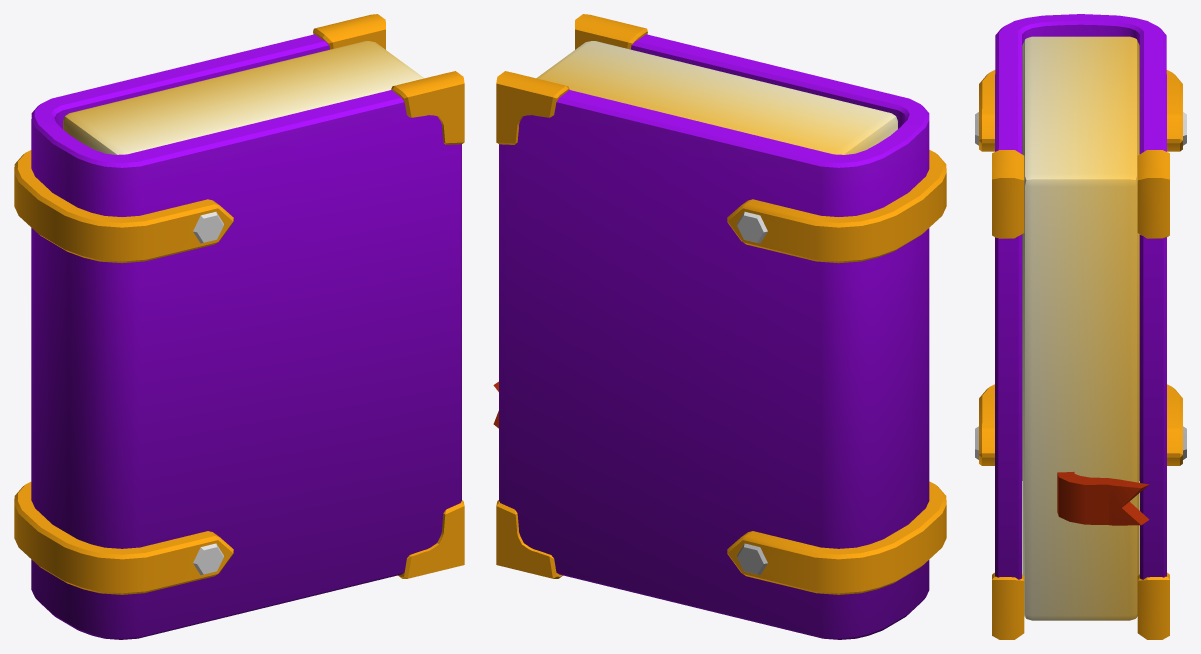
Rendered from Collectable_Book_01.fbx.
3 views of the same model, side by side, from view 1: azimuth 30°, elevation 25°; view 2: azimuth 150°, elevation 25°; view 3: azimuth 270°, elevation 25° (orthographic). The views are drawn at different scales.
Visible parts, largest first — view 1: Collectable_Book_01; view 2: Collectable_Book_01; view 3: Collectable_Book_01.
Part boxes in pixels (<box>): Collectable_Book_01: <box>14,14,464,639</box>; Collectable_Book_01: <box>493,14,946,639</box>; Collectable_Book_01: <box>975,14,1186,639</box>.
Size of the model in its own units: 62.04 by 72.62 by 30.18.
